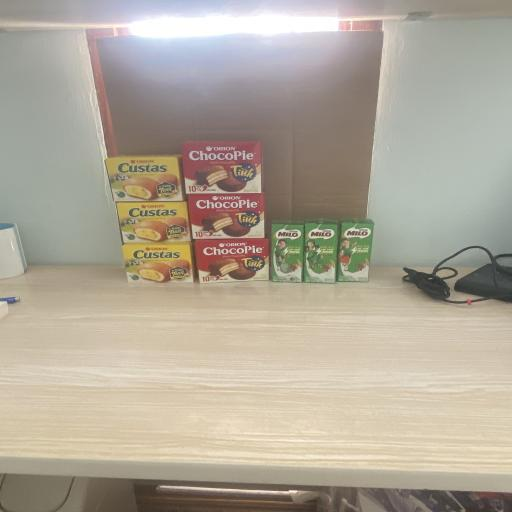chocopie: (182, 140, 262, 194), (188, 192, 266, 238), (194, 238, 270, 283)
custas: (105, 154, 184, 201), (116, 201, 192, 243), (121, 242, 194, 283)
milo: (336, 219, 374, 282), (304, 219, 338, 283), (271, 220, 304, 283)
